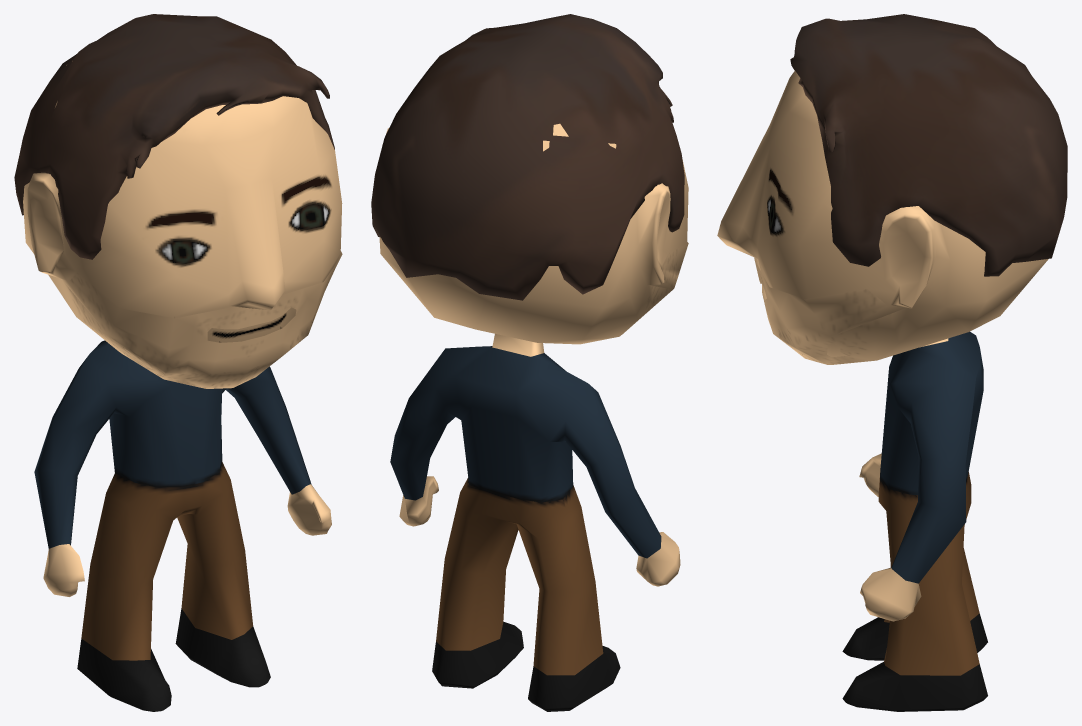
File: Chris_V2.fbx
3 views of the same model, side by side, from view 1: azimuth 30°, elevation 25°; view 2: azimuth 150°, elevation 25°; view 3: azimuth 270°, elevation 25° (orthographic). The views are drawn at different scales.
Visible parts, largest first — view 1: Chris_body, Chris_head, Chris_hair_low, Chris_beard; view 2: Chris_hair_low, Chris_body, Chris_head, Chris_beard; view 3: Chris_hair_low, Chris_body, Chris_head, Chris_beard.
Boxes of the visible parts, left/top/right/bottom form: Chris_body: left=34, top=340, right=331, bottom=711; Chris_head: left=23, top=61, right=342, bottom=362; Chris_hair_low: left=14, top=14, right=334, bottom=259; Chris_beard: left=61, top=251, right=342, bottom=388; Chris_hair_low: left=371, top=14, right=684, bottom=300; Chris_body: left=390, top=334, right=680, bottom=711; Chris_head: left=379, top=123, right=688, bottom=344; Chris_beard: left=623, top=242, right=688, bottom=333; Chris_hair_low: left=790, top=14, right=1067, bottom=276; Chris_body: left=842, top=331, right=987, bottom=711; Chris_head: left=717, top=71, right=1048, bottom=364; Chris_beard: left=754, top=257, right=906, bottom=364.
Size of the model in its own units: 460 by 991 by 488.
